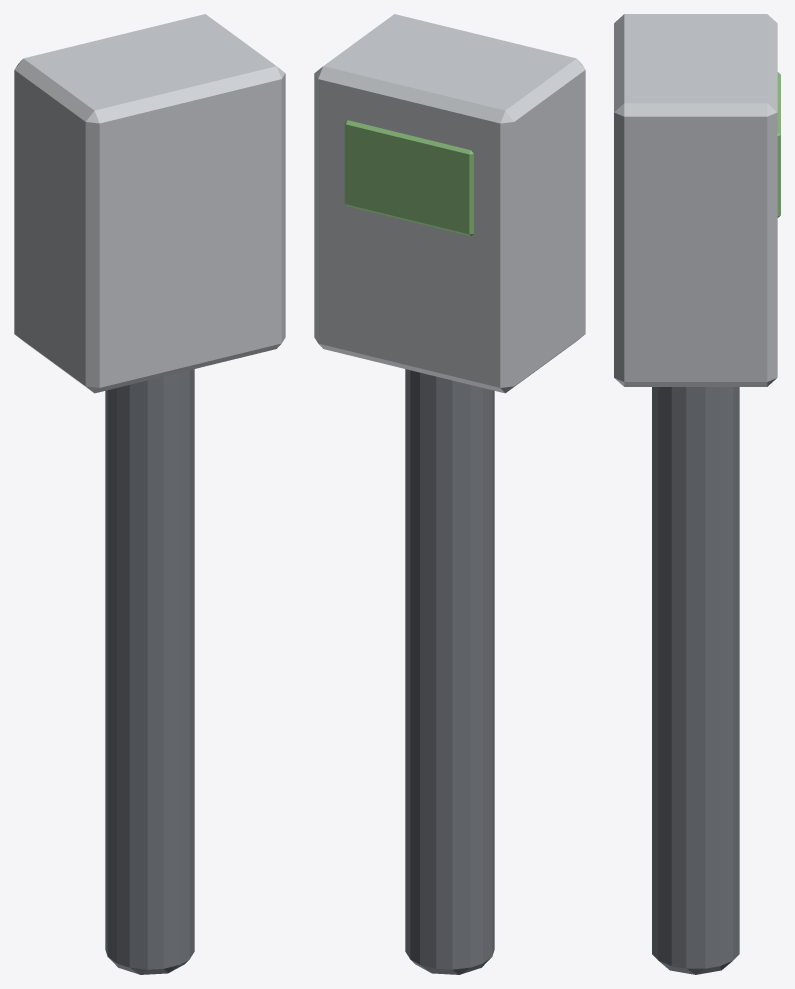
The model's file is 街道_停车咪表_01.fbx.
The picture shows the model from 3 angles, left to right: view 1: azimuth 30°, elevation 25°; view 2: azimuth 150°, elevation 25°; view 3: azimuth 270°, elevation 25°; orthographic projection.
Visible parts, largest first — view 1: 表头, 表杆; view 2: 表头, 表杆, 显示屏; view 3: 表头, 表杆, 显示屏.
Boxes of the visible parts, bbox=[...] form: 表头: bbox=[14, 14, 285, 393]; 表杆: bbox=[105, 369, 194, 974]; 表头: bbox=[314, 14, 585, 393]; 表杆: bbox=[405, 369, 494, 974]; 显示屏: bbox=[344, 120, 473, 236]; 表头: bbox=[614, 14, 777, 386]; 表杆: bbox=[652, 387, 739, 974]; 显示屏: bbox=[777, 72, 780, 217].
Bounding box in the file's own units: 34 × 146 × 24.5.
